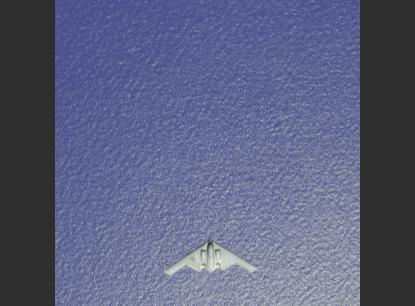B1: (163, 238, 258, 275)
